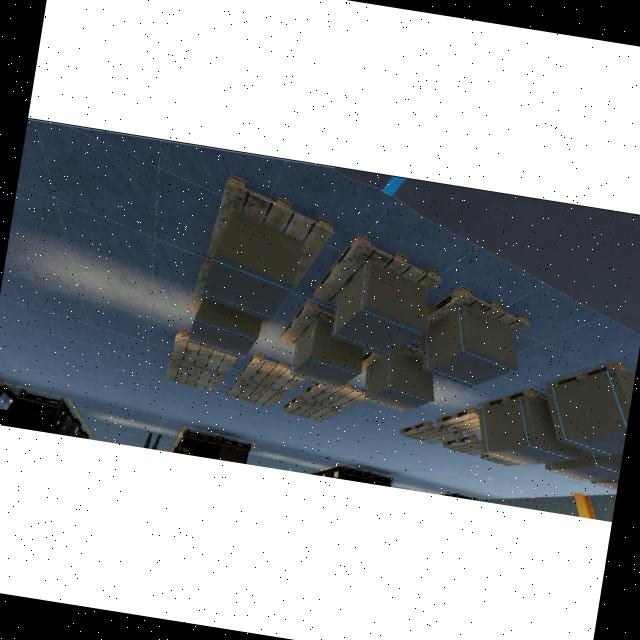wooden_pallet: (205, 174, 334, 291), (312, 234, 441, 307), (418, 287, 531, 343), (170, 328, 239, 378), (546, 362, 636, 391), (240, 353, 305, 393), (279, 301, 334, 345), (164, 356, 224, 394), (227, 376, 286, 410), (281, 394, 341, 423), (303, 382, 365, 409), (398, 421, 463, 446), (481, 388, 550, 411), (436, 407, 480, 437), (442, 435, 485, 457)
